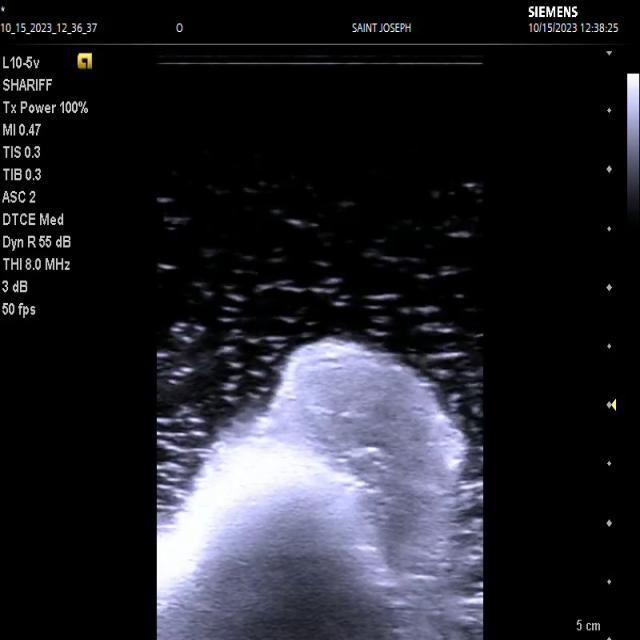tissue: (156, 436, 417, 640), (254, 339, 465, 501)
